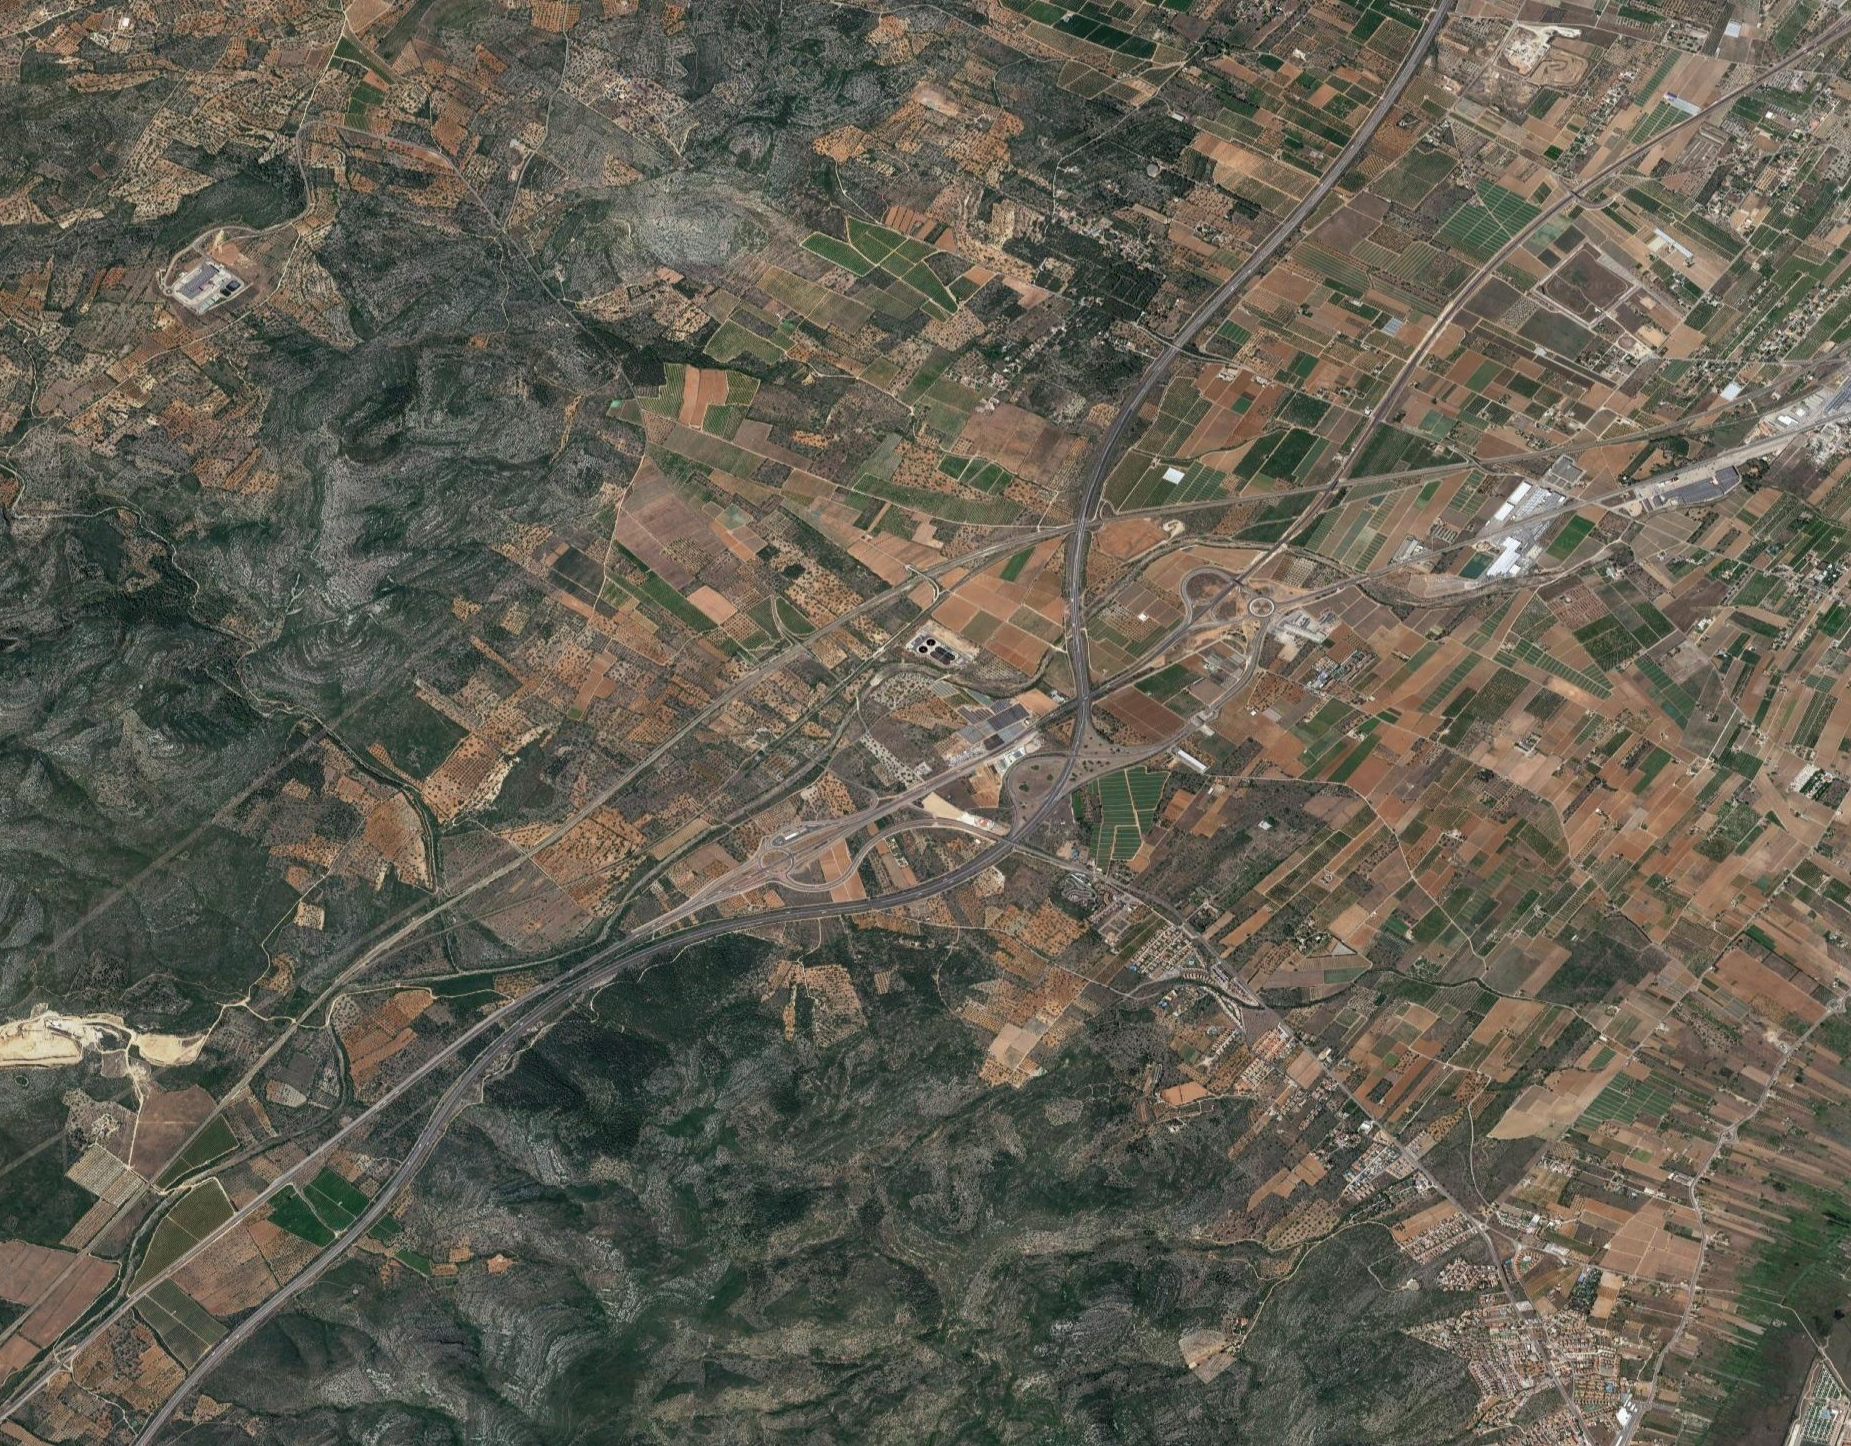motorway: (59, 1142, 445, 1446), (407, 839, 793, 1142), (790, 655, 1176, 959), (984, 353, 1199, 654), (1149, 135, 1378, 352), (1259, 2, 1490, 153)
